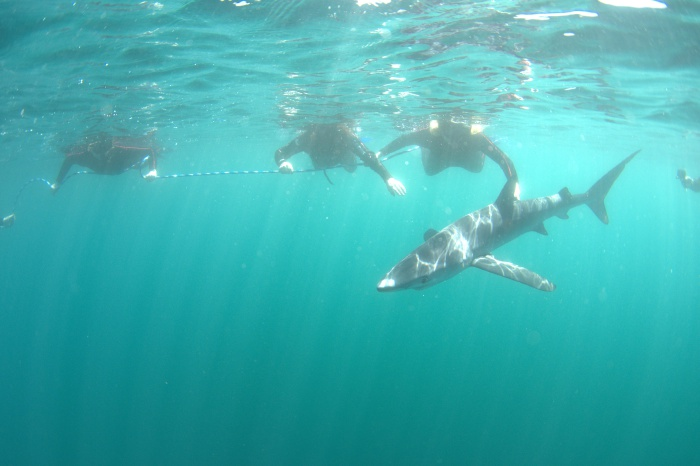Azul: (354, 145, 638, 304)
